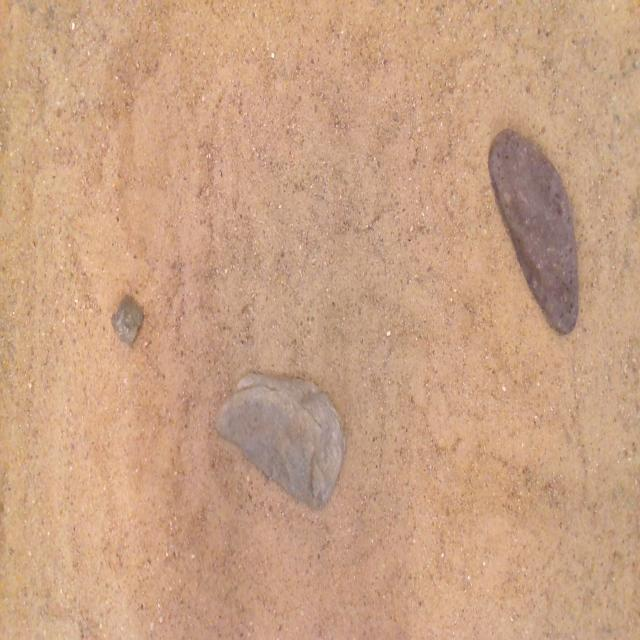rock: (489, 129, 578, 332), (217, 375, 345, 507), (111, 296, 144, 344)
